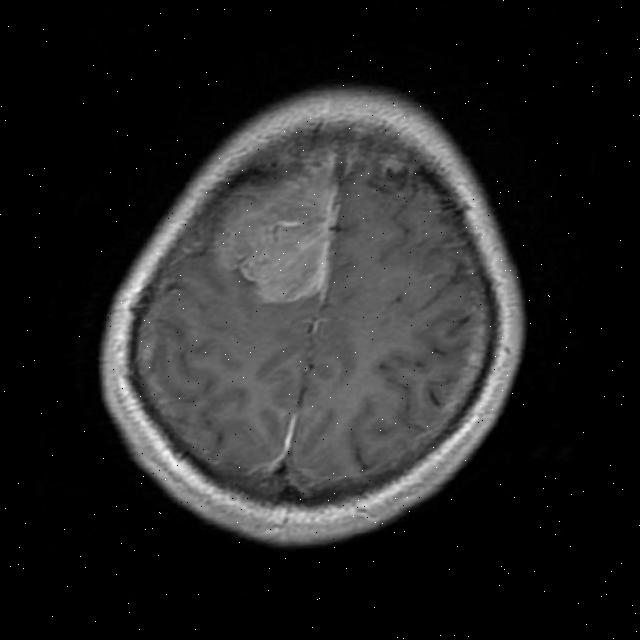Meningioma: (208, 144, 341, 309)
